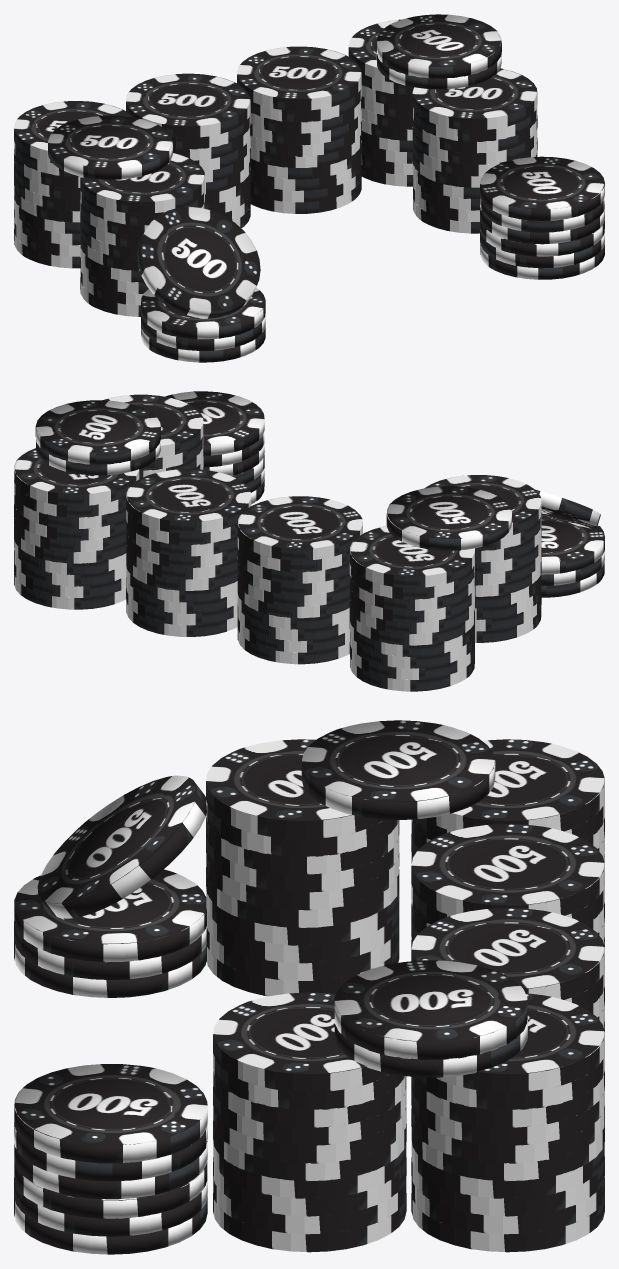
The model's file is WithdrawMoney_5000.fbx.
The picture shows the model from 3 angles, top to bottom: view 1: azimuth 30°, elevation 25°; view 2: azimuth 150°, elevation 25°; view 3: azimuth 270°, elevation 25°; orthographic projection. The views are drawn at different scales.
Visible parts, largest first — view 1: Cylinder.011; view 2: Cylinder.011; view 3: Cylinder.011.
Part boxes in pixels (x1,y1,x2,y2): Cylinder.011: (14,14,604,362); Cylinder.011: (14,391,604,691); Cylinder.011: (14,720,604,1254).
Size of the model in its own units: 59.64 by 17.45 by 43.99.
